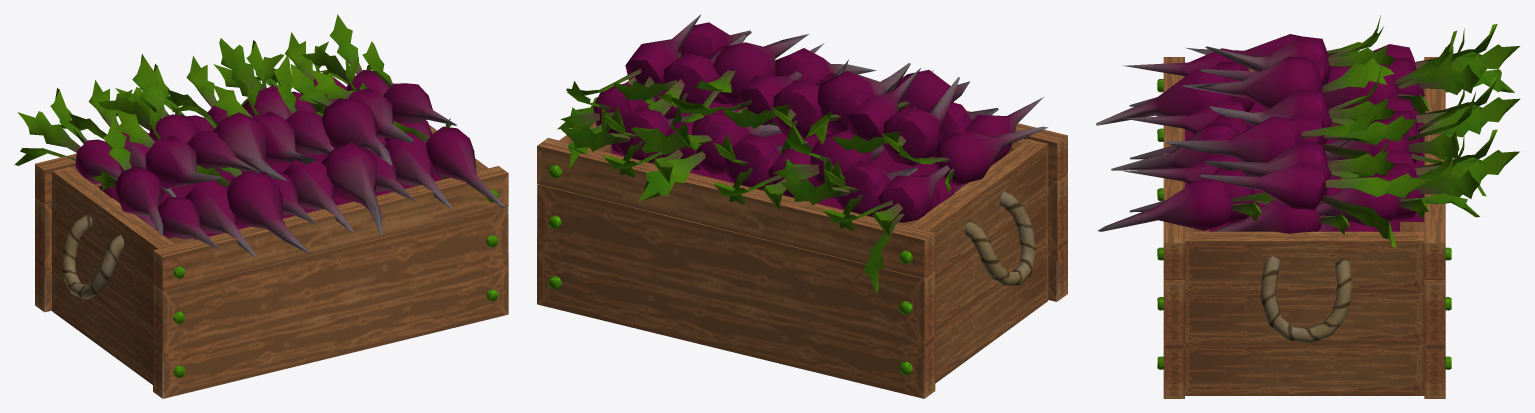
File: FarmCrate_Radish.gltf
3 renders of one model, left to right at view 1: azimuth 30°, elevation 25°; view 2: azimuth 150°, elevation 25°; view 3: azimuth 270°, elevation 25°, orthographic. The views are drawn at different scales.
Visible parts, largest first — view 1: FarmCrate_Radish; view 2: FarmCrate_Radish; view 3: FarmCrate_Radish.
Part boxes in pixels (<box>): FarmCrate_Radish: <box>15,14,508,398</box>; FarmCrate_Radish: <box>537,14,1067,398</box>; FarmCrate_Radish: <box>1096,15,1520,398</box>.
Bounding box in the file's own units: 0.7138 × 0.3791 × 0.5979.
3 materials, 3 textured.
